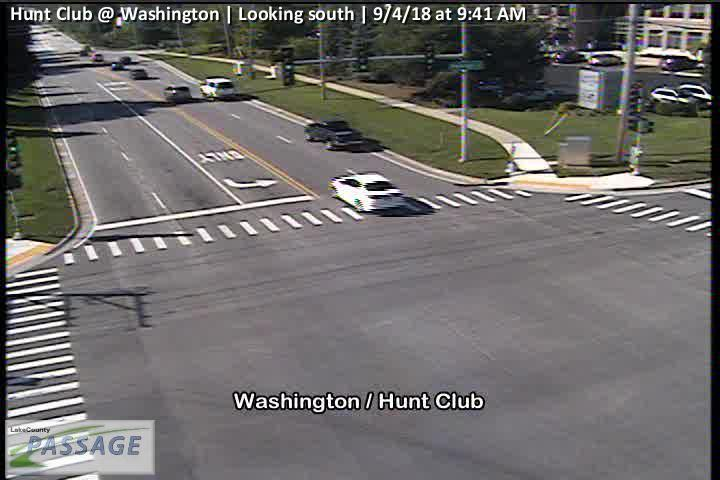SUV: (199, 77, 234, 99), (660, 55, 694, 70), (588, 52, 621, 66)
Sedan: (329, 172, 406, 211), (304, 120, 363, 150), (651, 85, 693, 107), (680, 82, 711, 101), (162, 84, 191, 101), (130, 67, 147, 80)
